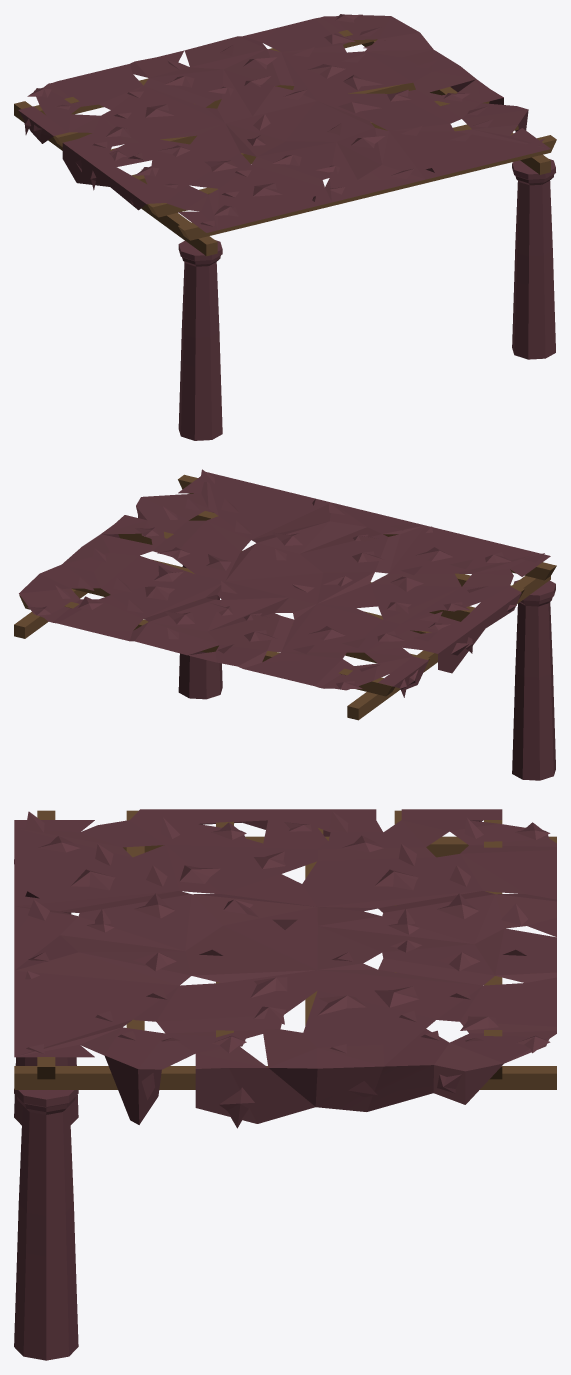
Rendered from SM_Colonnade_Ivy_Empire.fbx.
3 renders of one model, top to bottom at view 1: azimuth 30°, elevation 25°; view 2: azimuth 150°, elevation 25°; view 3: azimuth 270°, elevation 25°, orthographic. The views are drawn at different scales.
Parts seen in each view (by area): view 1: SM_Colonnade_Ivy_Empire; view 2: SM_Colonnade_Ivy_Empire; view 3: SM_Colonnade_Ivy_Empire.
Part boxes in pixels (box(x1,y1,x2,y2)): SM_Colonnade_Ivy_Empire: box(14, 14, 556, 440); SM_Colonnade_Ivy_Empire: box(14, 469, 556, 780); SM_Colonnade_Ivy_Empire: box(14, 809, 556, 1360).
Size of the model in its own units: 6.97 by 3.73 by 6.
